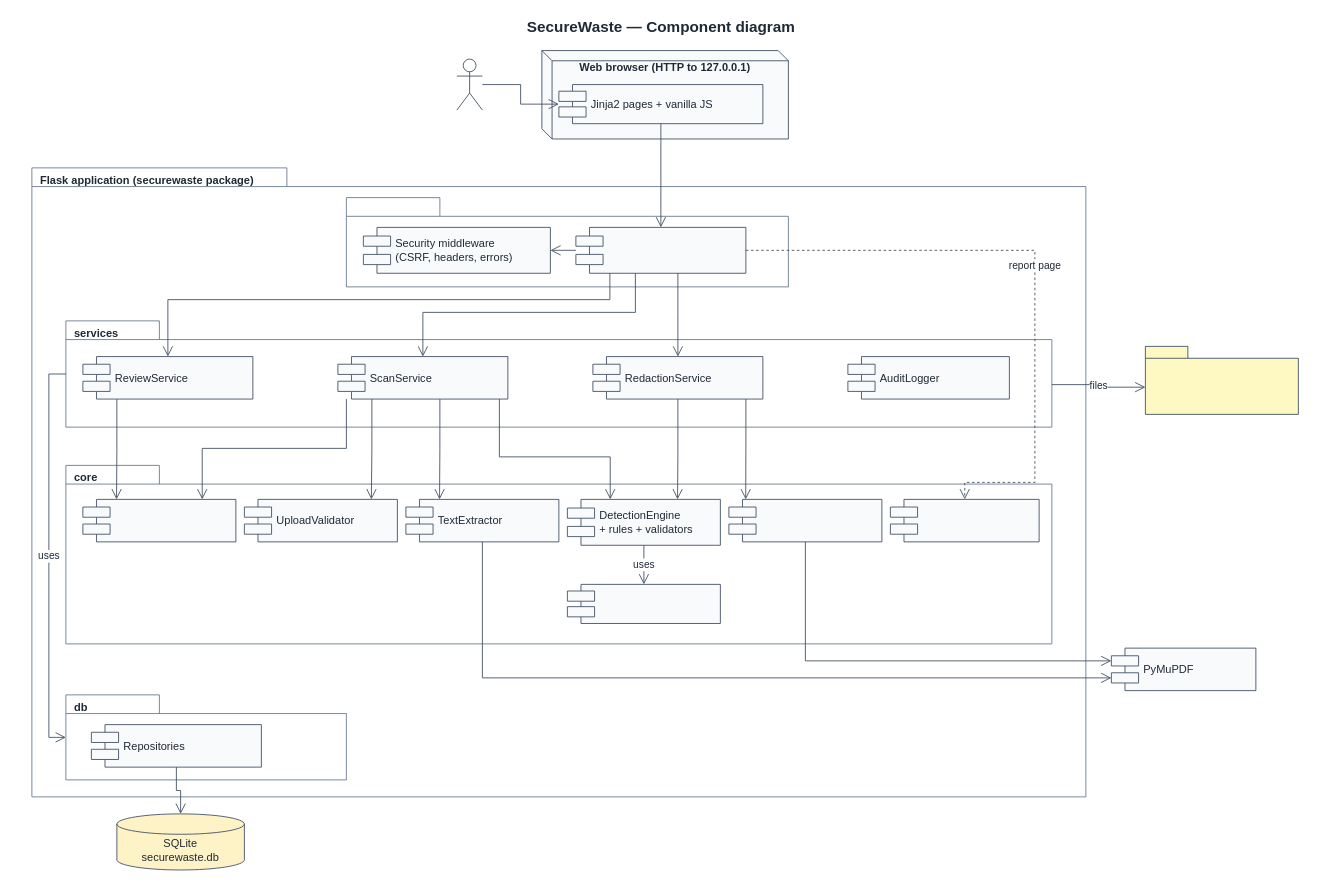
This 1321x885 diagram has some shape labels left out. The shapes that lost their labels are listed below. From the top down, each one's box as (x1, y1, x2, y2) in pixels, then its label:
(456, 58, 482, 110): Analyst
(346, 197, 788, 287): web
(575, 227, 746, 273): Routes (HTML + JSON)
(1145, 346, 1298, 414): instance/storage originals · sanitized · tmp
(82, 499, 236, 542): RiskEngine
(728, 499, 882, 542): Redactor
(890, 499, 1039, 542): ReportBuilder
(567, 584, 720, 623): Masker
